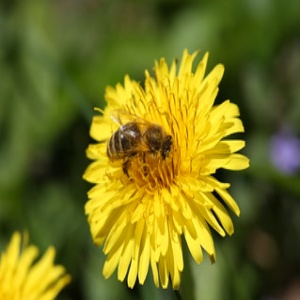bee: (106, 111, 175, 170)
